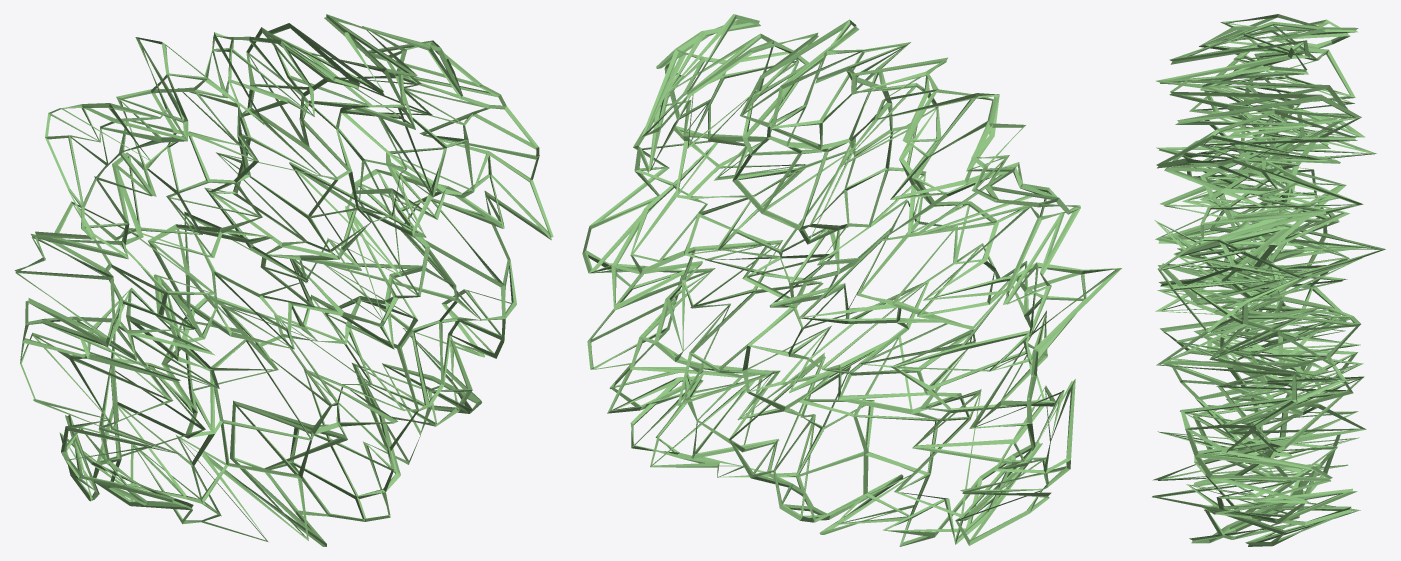
Rendered from Circle_Grass.fbx.
The picture shows the model from 3 angles, left to right: view 1: azimuth 30°, elevation 25°; view 2: azimuth 150°, elevation 25°; view 3: azimuth 270°, elevation 25°; orthographic projection. The views are drawn at different scales.
Visible parts, largest first — view 1: Circle_Grass; view 2: Circle_Grass; view 3: Circle_Grass.
Boxes of the visible parts, x1,y1,x2,y2 form: Circle_Grass: (14, 14, 553, 546); Circle_Grass: (582, 14, 1121, 546); Circle_Grass: (1152, 14, 1385, 546).
Bounding box in the file's own units: 89.75 × 89.13 × 41.65.
